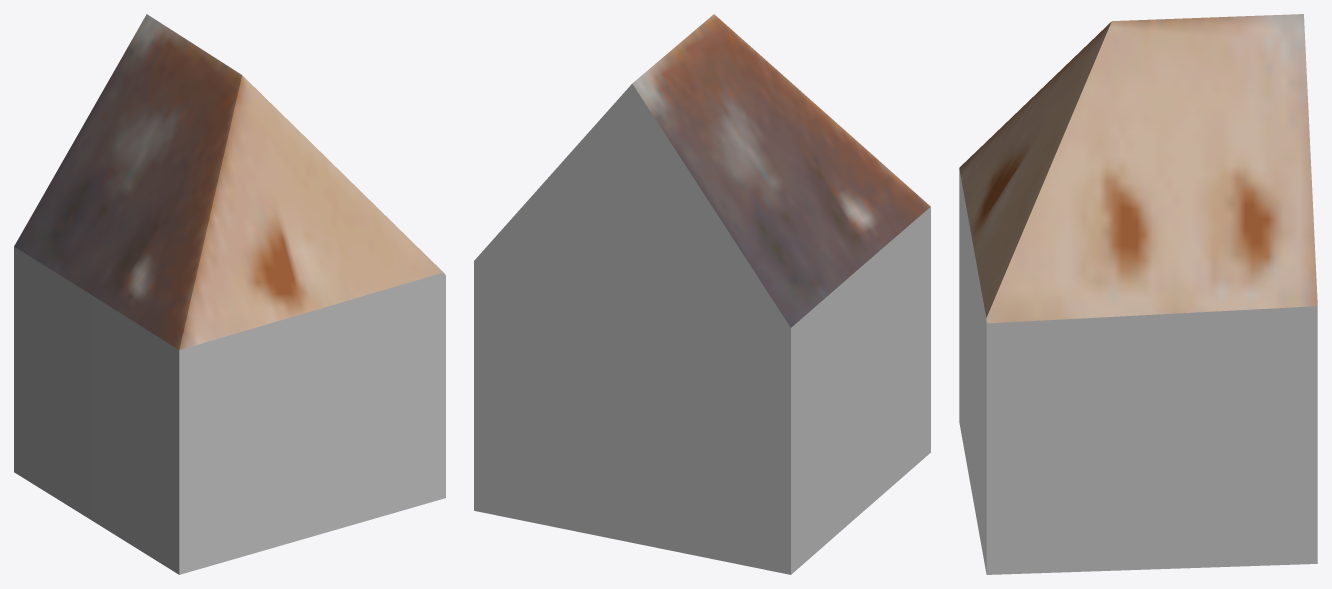
Rendered from DEBW_0010007Txck.gltf.
3 renders of one model, left to right at view 1: azimuth 30°, elevation 25°; view 2: azimuth 150°, elevation 25°; view 3: azimuth 270°, elevation 25°, orthographic. The views are drawn at different scales.
Parts seen in each view (by area): view 1: Z_UP; view 2: Z_UP; view 3: Z_UP.
Boxes of the visible parts, x1,y1,x2,y2 form: Z_UP: [14, 14, 445, 574]; Z_UP: [474, 14, 930, 574]; Z_UP: [959, 14, 1317, 574].
Size of the model in its own units: 10.04 by 13.54 by 9.29.
2 materials, 1 textured.
